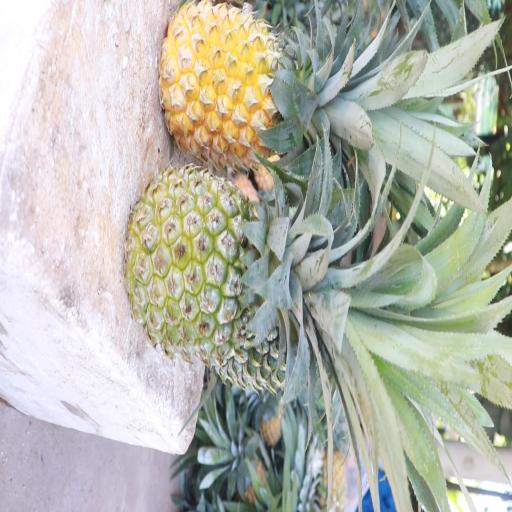------------------------------: (127, 164, 316, 354)
Pineapple - v8 v1: (158, 0, 332, 159)
